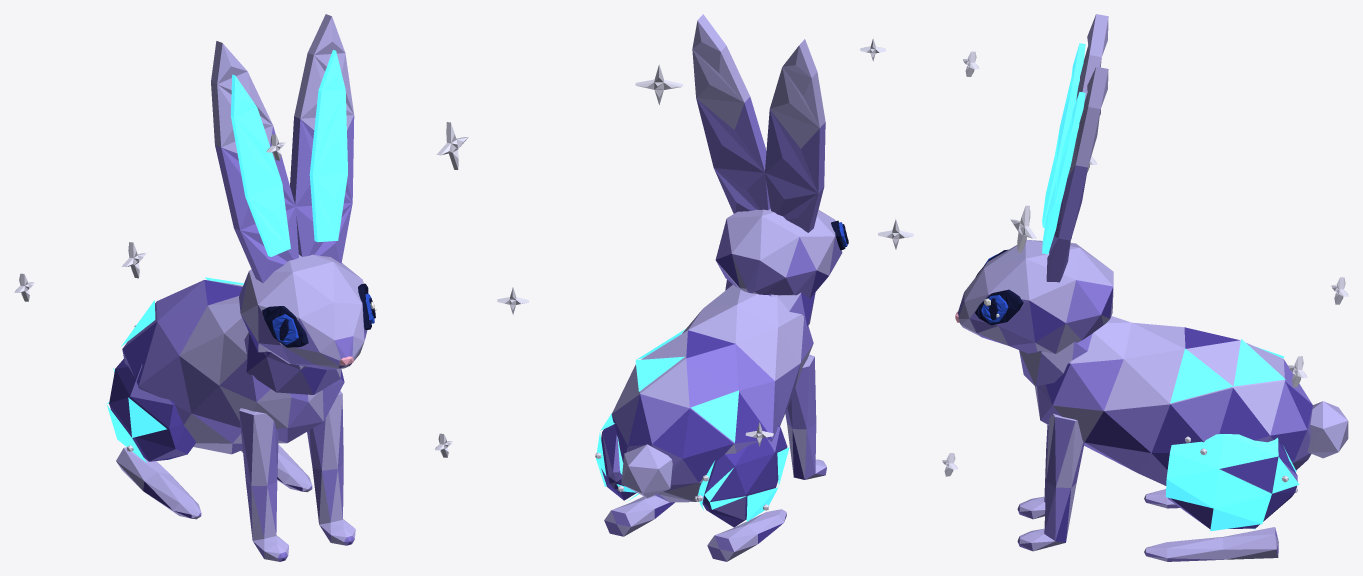
The model's file is LunarHopper.fbx.
3 renders of one model, left to right at view 1: azimuth 30°, elevation 25°; view 2: azimuth 150°, elevation 25°; view 3: azimuth 270°, elevation 25°, orthographic. The views are drawn at different scales.
Visible parts, largest first — view 1: LunarHopper_Body, LunarHopper_Glow_3099ff, LunarHopper_Glow_e7e7ff; view 2: LunarHopper_Body, LunarHopper_Glow_3099ff, LunarHopper_Glow_e7e7ff; view 3: LunarHopper_Body, LunarHopper_Glow_3099ff, LunarHopper_Glow_e7e7ff.
Boxes of the visible parts, x1,y1,x2,y2 form: LunarHopper_Body: (109, 14, 375, 561); LunarHopper_Glow_3099ff: (106, 50, 347, 462); LunarHopper_Glow_e7e7ff: (14, 122, 468, 457); LunarHopper_Body: (601, 14, 848, 561); LunarHopper_Glow_3099ff: (596, 329, 789, 522); LunarHopper_Glow_e7e7ff: (497, 38, 913, 510); LunarHopper_Body: (955, 14, 1348, 561); LunarHopper_Glow_3099ff: (1042, 43, 1299, 531); LunarHopper_Glow_e7e7ff: (942, 51, 1348, 492).
Bounding box in the file's own units: 1.81 × 2.58 × 1.93.
4 materials, 1 textured.
